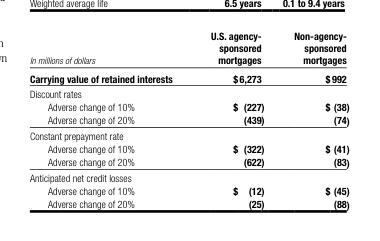table: (28, 28, 348, 210)
table column: (28, 28, 190, 210), (190, 28, 278, 210), (278, 28, 348, 210)
table column header: (28, 28, 348, 68)
table projected row header: (28, 127, 348, 141), (28, 169, 348, 183), (28, 86, 348, 99)
table row: (28, 28, 348, 68), (28, 68, 348, 86), (28, 112, 348, 127), (28, 154, 348, 169), (28, 127, 348, 141), (28, 169, 348, 183), (28, 196, 348, 210), (28, 86, 348, 99), (28, 99, 348, 112), (28, 141, 348, 154), (28, 183, 348, 196)
